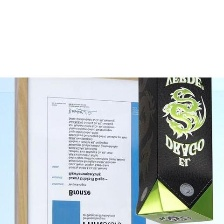carton: (135, 76, 224, 224)
